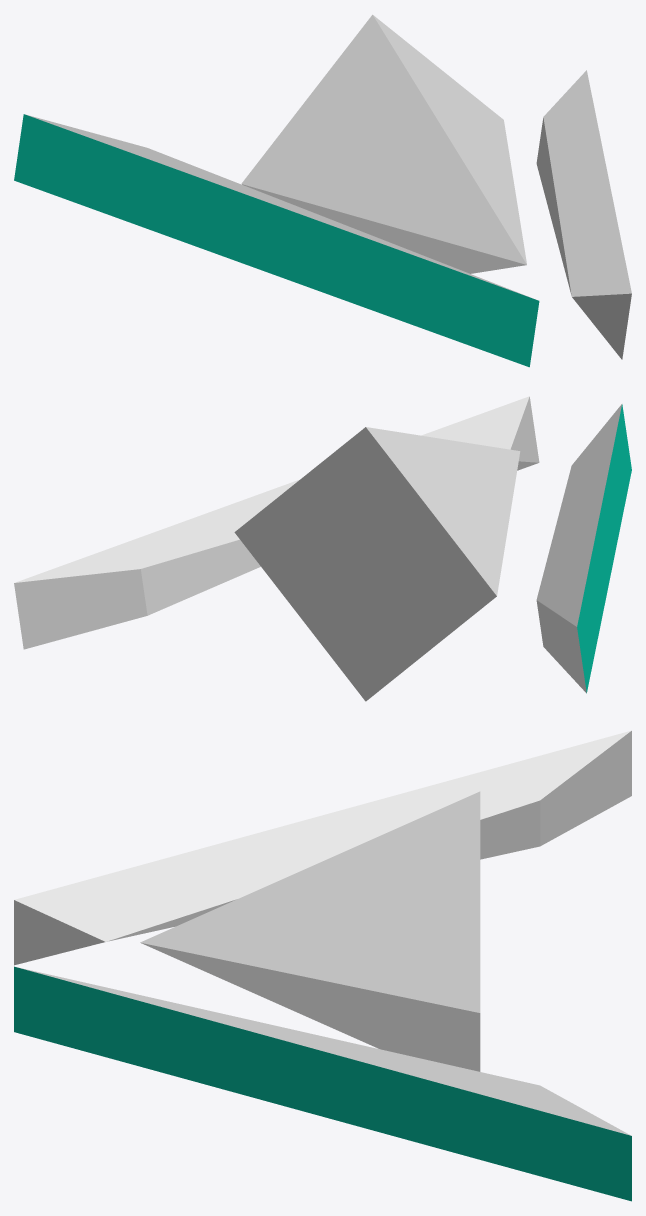
The model's file is source.fbx.
The picture shows the model from 3 angles, top to bottom: view 1: azimuth 30°, elevation 25°; view 2: azimuth 150°, elevation 25°; view 3: azimuth 270°, elevation 25°; orthographic projection. The views are drawn at different scales.
Parts seen in each view (by area): view 1: spinny, Dart; view 2: Dart, spinny; view 3: spinny, Dart.
Part boxes in pixels (x1,y1,x2,y2): spinny: (14,70,631,367); Dart: (241,14,526,273); Dart: (234,427,520,701); spinny: (14,396,631,693); spinny: (14,730,631,1201); Dart: (140,791,480,1071).
Bounding box in the file's own units: 218 × 100 × 185.
